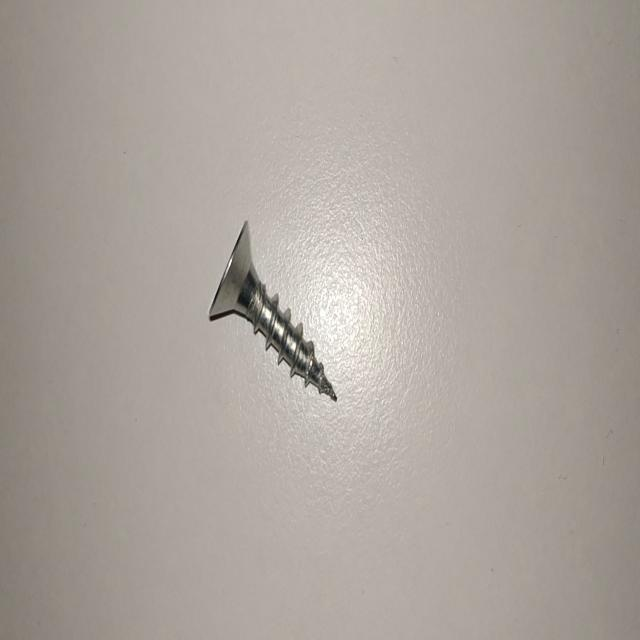Screw: (208, 220, 337, 400)
